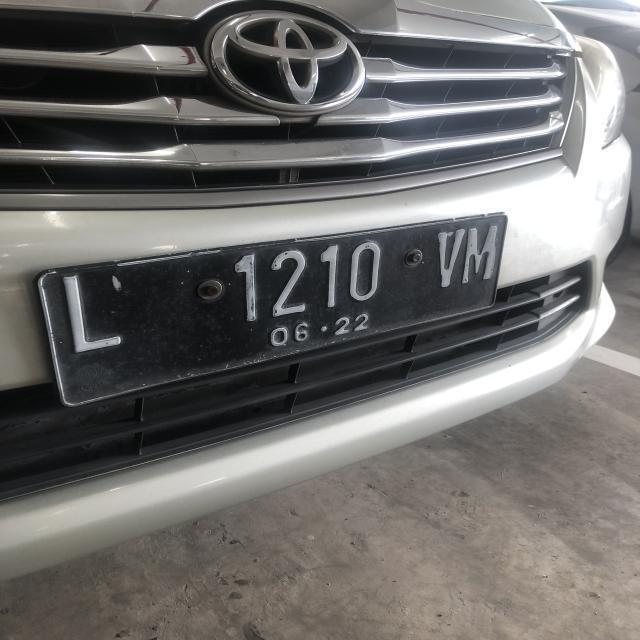0: (346, 236, 381, 302)
1: (230, 251, 262, 328), (314, 240, 344, 308)
2: (268, 246, 312, 318)
L: (59, 265, 122, 359)
M: (458, 220, 499, 286)
V: (432, 222, 466, 290)
